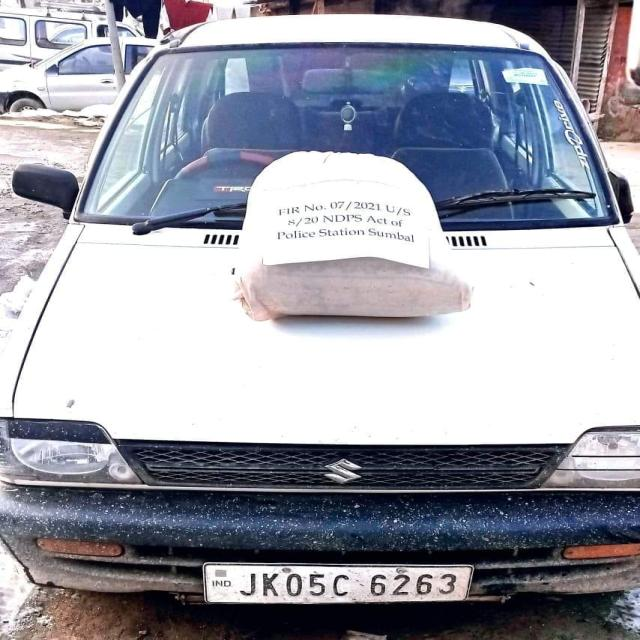plate: (195, 556, 478, 612)
